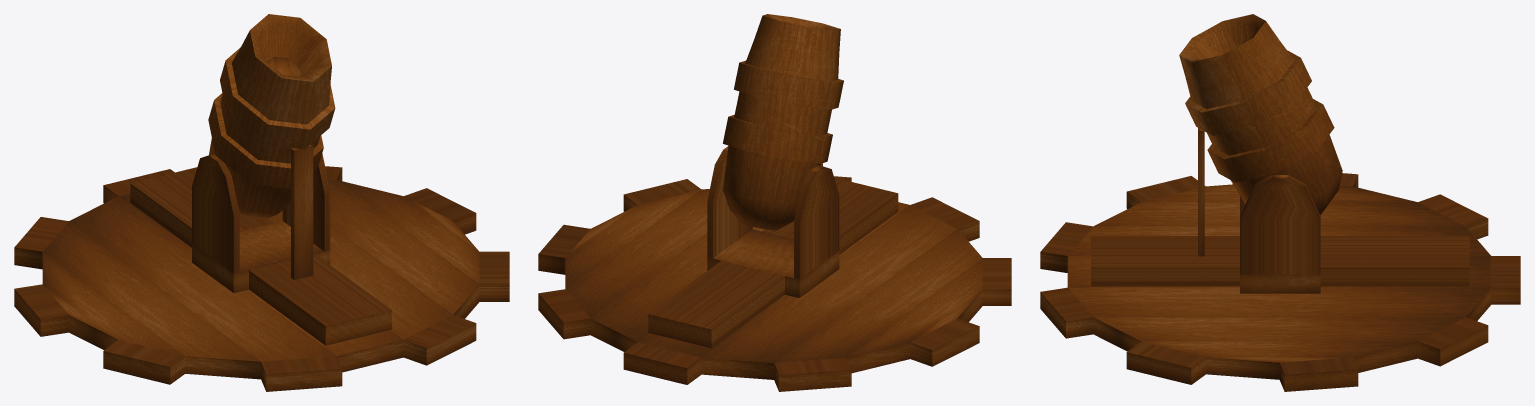
File: mortier.fbx
The picture shows the model from 3 angles, left to right: view 1: azimuth 30°, elevation 25°; view 2: azimuth 150°, elevation 25°; view 3: azimuth 270°, elevation 25°; orthographic projection. The views are drawn at different scales.
Visible parts, largest first — view 1: Tandwiel, Houder, Capsule, Cube; view 2: Tandwiel, Houder, Capsule; view 3: Tandwiel, Houder, Capsule, Cube.
Part boxes in pixels (x1=…): Tandwiel: x1=14, y1=166, x2=509, y2=391; Houder: x1=130, y1=153, x2=391, y2=345; Capsule: x1=208, y1=14, x2=335, y2=217; Cube: x1=291, y1=144, x2=313, y2=279; Tandwiel: x1=538, y1=176, x2=1011, y2=391; Houder: x1=648, y1=146, x2=898, y2=348; Capsule: x1=723, y1=14, x2=843, y2=230; Tandwiel: x1=1040, y1=173, x2=1520, y2=391; Houder: x1=1091, y1=175, x2=1469, y2=293; Capsule: x1=1179, y1=14, x2=1342, y2=214; Cube: x1=1198, y1=128, x2=1204, y2=256.
Bounding box in the file's own units: 232 × 141 × 229.
Materials: 1 (1 with a texture image).
